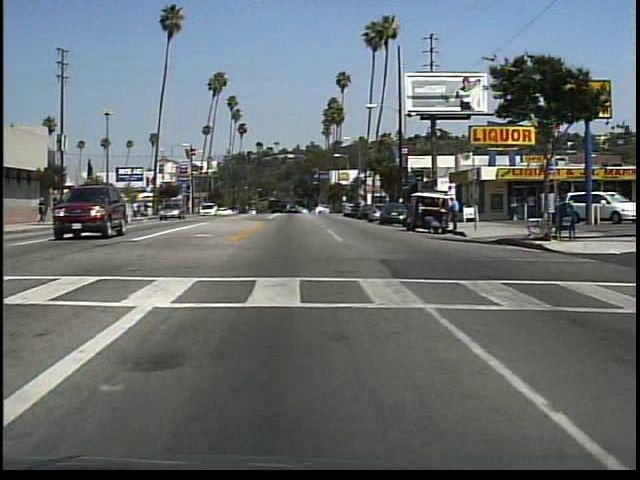person: (448, 192, 467, 235), (505, 189, 522, 222), (425, 215, 443, 236), (527, 189, 539, 220), (39, 195, 50, 225)
